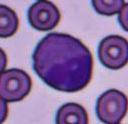E: (32, 32, 94, 92)
